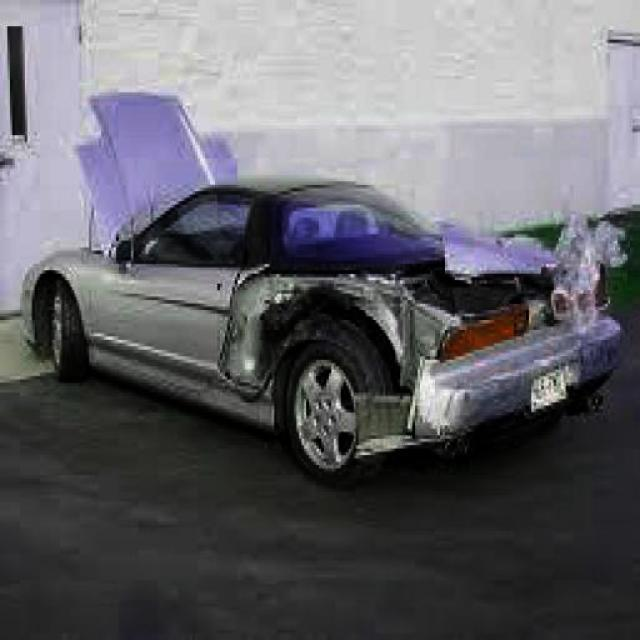car damage: (207, 220, 615, 471)
